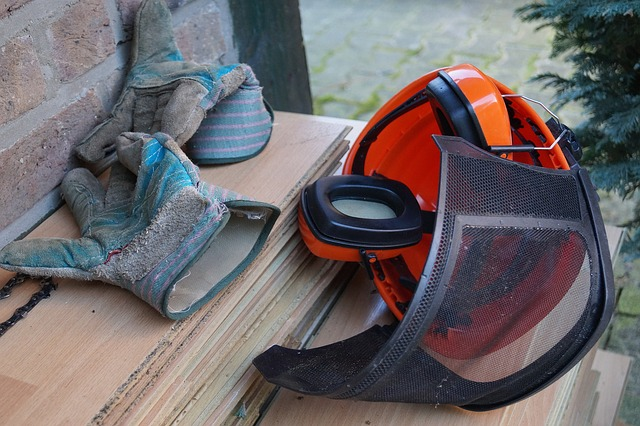headphones: (298, 64, 515, 264)
